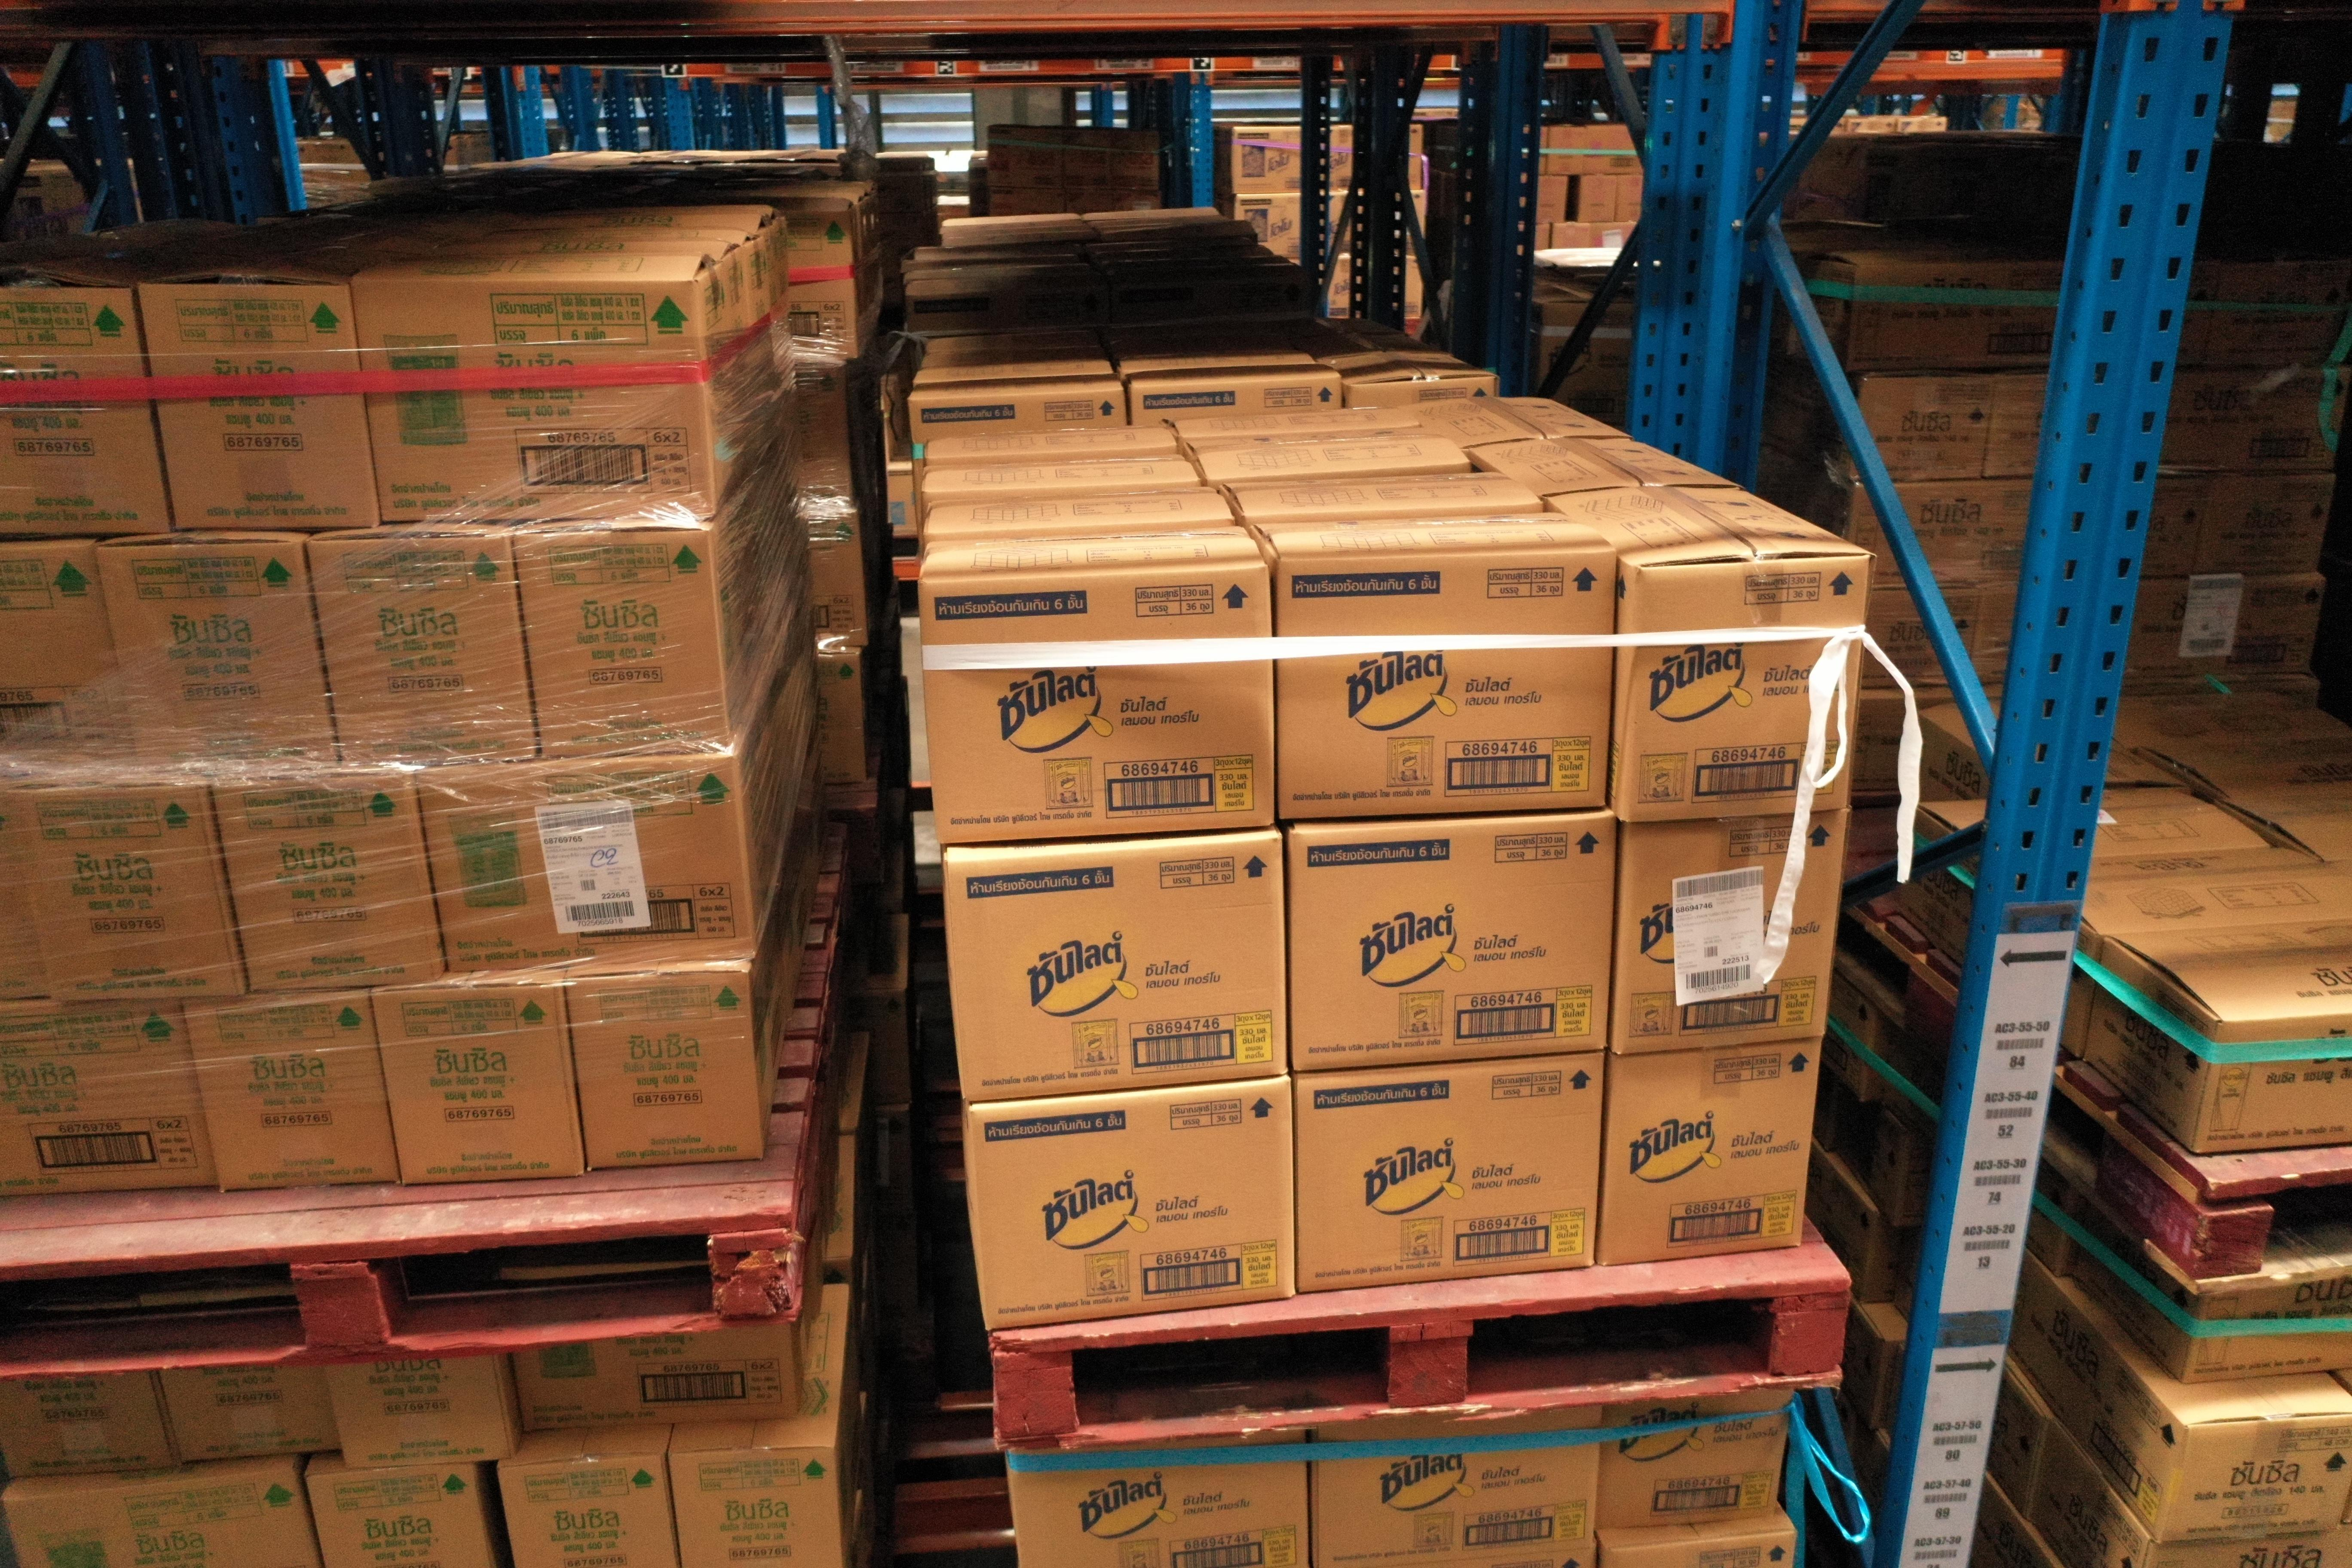-: (915, 565, 1276, 847), (1274, 549, 1617, 826), (941, 836, 1284, 1106), (352, 282, 716, 528), (1288, 814, 1619, 1073), (962, 1078, 1297, 1330), (413, 756, 756, 983), (1297, 1053, 1603, 1298), (1619, 556, 1869, 828), (87, 539, 343, 782), (135, 283, 380, 534), (1613, 808, 1844, 1057), (308, 534, 537, 772), (2, 784, 245, 1004), (1601, 1039, 1825, 1269), (213, 773, 443, 996), (514, 528, 731, 759), (1309, 1405, 1599, 1568), (177, 987, 399, 1195), (0, 280, 178, 539), (366, 983, 586, 1186), (1006, 1433, 1311, 1568), (565, 969, 765, 1171), (507, 1323, 798, 1440), (0, 541, 140, 784), (2, 1466, 322, 1568), (1594, 1391, 1792, 1528), (2159, 1410, 2352, 1547), (663, 1442, 845, 1568), (318, 1356, 514, 1472), (2193, 1010, 2352, 1150), (493, 1454, 681, 1568), (0, 1368, 182, 1480), (2180, 1274, 2352, 1386), (154, 1365, 339, 1468), (310, 1463, 492, 1568)
box: (1843, 259, 2065, 374), (2154, 369, 2352, 478), (2123, 577, 2327, 675), (1850, 479, 2032, 588), (2201, 259, 2352, 373), (1850, 374, 1995, 481), (2194, 472, 2336, 576), (1858, 588, 1981, 689), (2140, 474, 2208, 579), (1983, 371, 2049, 478)
